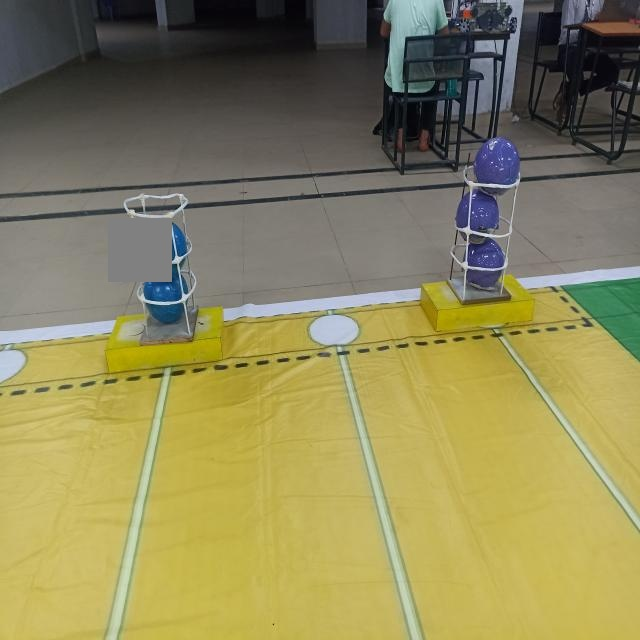blue_ball: (137, 220, 189, 273), (137, 278, 187, 325)
purple_ball: (471, 132, 519, 192), (456, 185, 501, 242), (462, 240, 507, 288)
silo: (122, 178, 203, 342), (448, 144, 521, 300)
